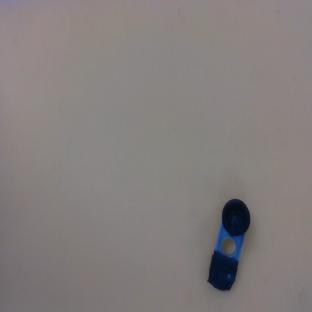part_1_bad: (203, 197, 254, 293)
